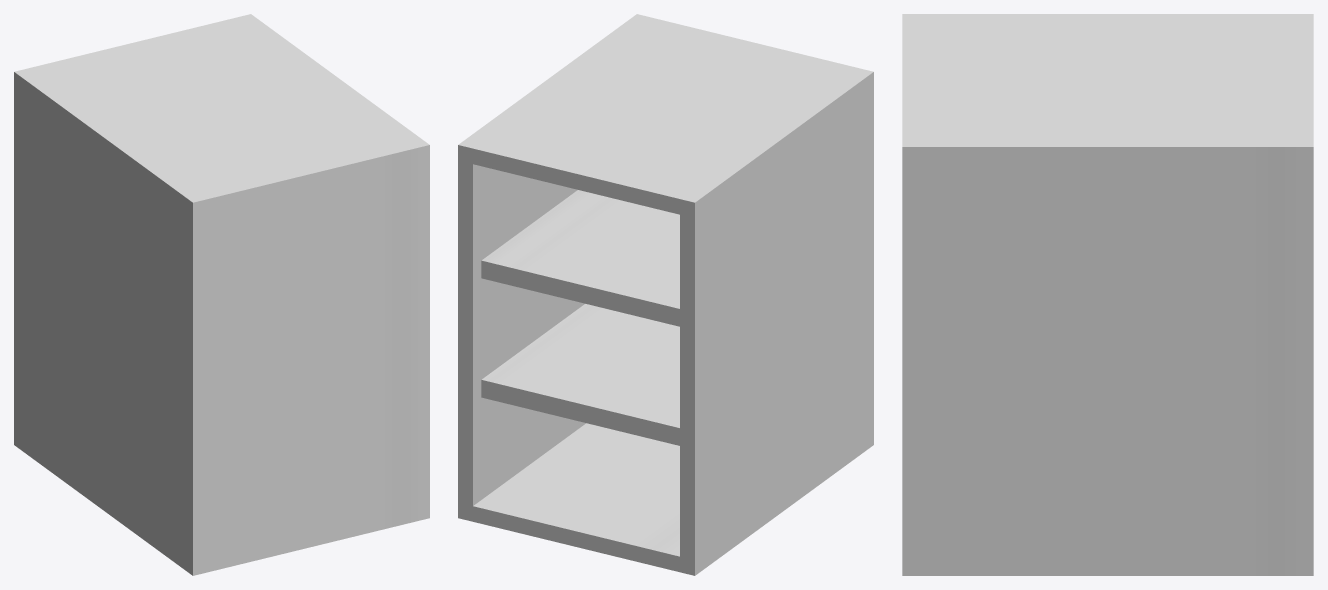
The model's file is CabinetE07.glb.
The picture shows the model from 3 angles, left to right: view 1: azimuth 30°, elevation 25°; view 2: azimuth 150°, elevation 25°; view 3: azimuth 270°, elevation 25°; orthographic projection. The views are drawn at different scales.
Visible parts, largest first — view 1: CabinetE07_model; view 2: CabinetE07_model; view 3: CabinetE07_model.
Boxes of the visible parts, x1=… form: CabinetE07_model: x1=14, y1=14, x2=429, y2=575; CabinetE07_model: x1=458, y1=14, x2=873, y2=575; CabinetE07_model: x1=902, y1=14, x2=1313, y2=575.
Bounding box in the file's own units: 0.9201 × 1.39 × 1.2.
Materials: 1 (1 with a texture image).
